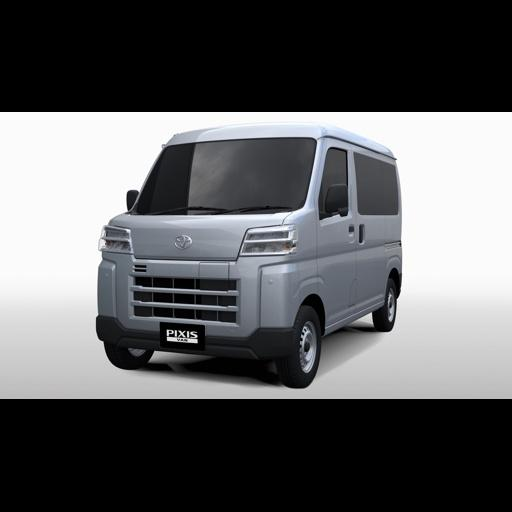van: (99, 123, 405, 390)
